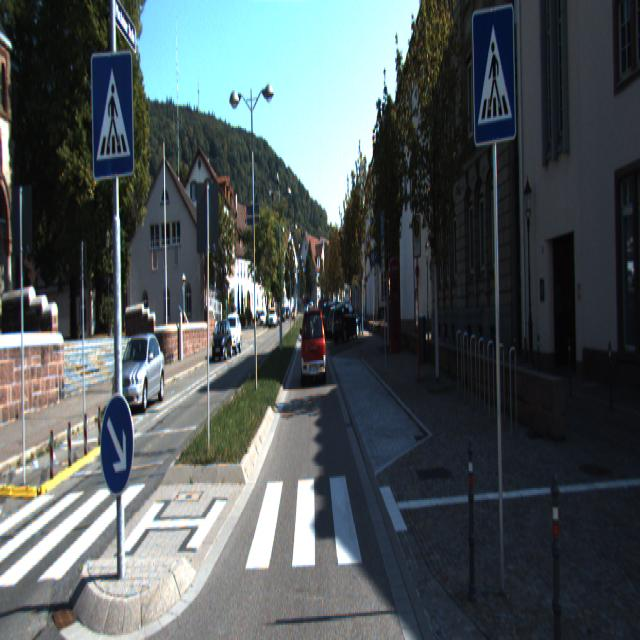Car: (112, 334, 166, 415), (302, 308, 326, 386), (332, 303, 361, 345), (327, 306, 354, 340), (212, 320, 233, 362), (223, 312, 242, 353)
DontCare: (260, 304, 291, 331)
